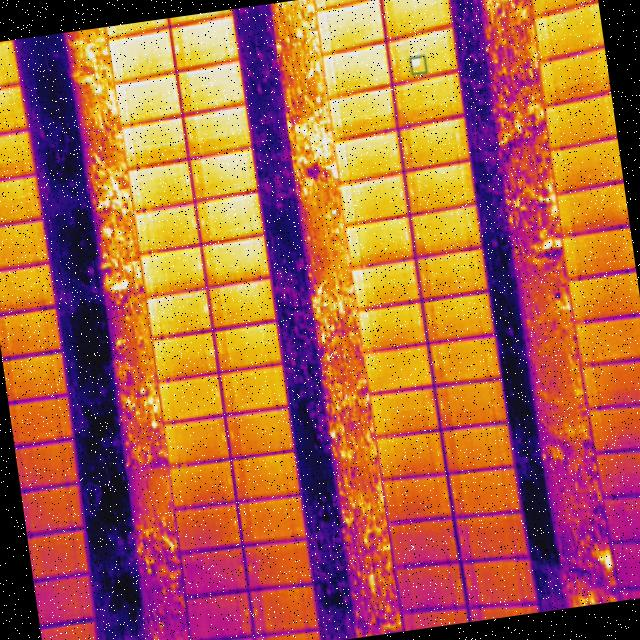Hotspot: (408, 57, 428, 77)
